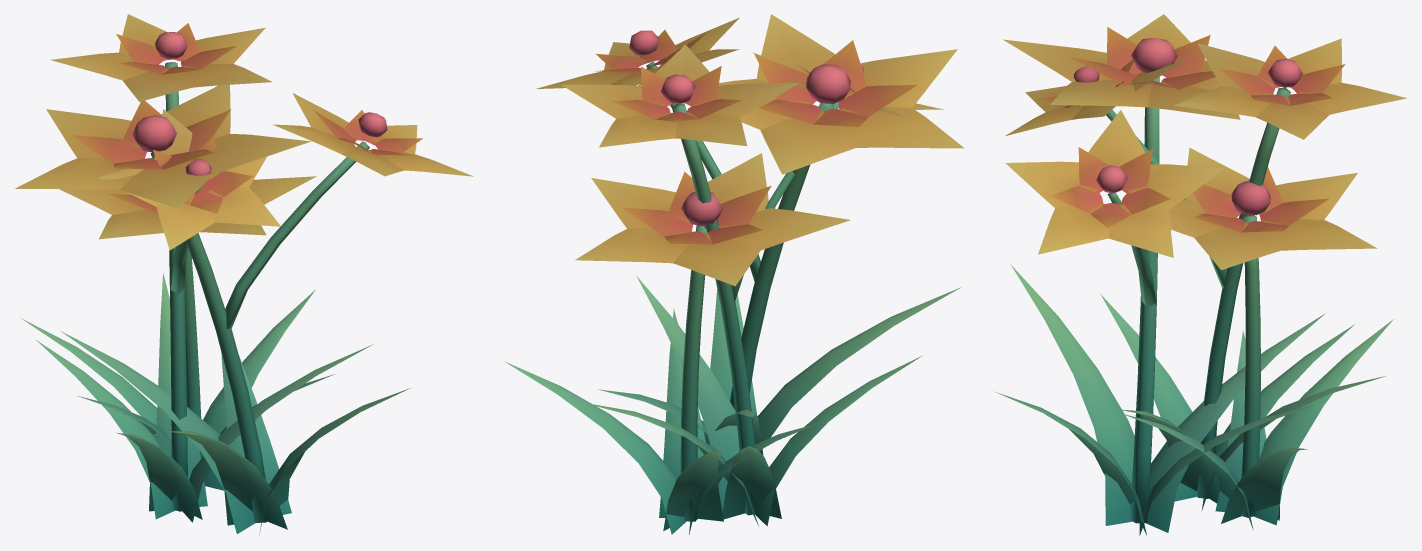
Rendered from verdant_flower_star.glb.
3 renders of one model, left to right at view 1: azimuth 30°, elevation 25°; view 2: azimuth 150°, elevation 25°; view 3: azimuth 270°, elevation 25°, orthographic. The views are drawn at different scales.
Parts seen in each view (by area): view 1: verdant_flower_star; view 2: verdant_flower_star; view 3: verdant_flower_star.
Boxes of the visible parts, x1=… form: verdant_flower_star: x1=15, y1=14, x2=473, y2=533; verdant_flower_star: x1=504, y1=14, x2=964, y2=534; verdant_flower_star: x1=994, y1=14, x2=1406, y2=535.
Bounding box in the file's own units: 0.4921 × 0.5136 × 0.4224.
